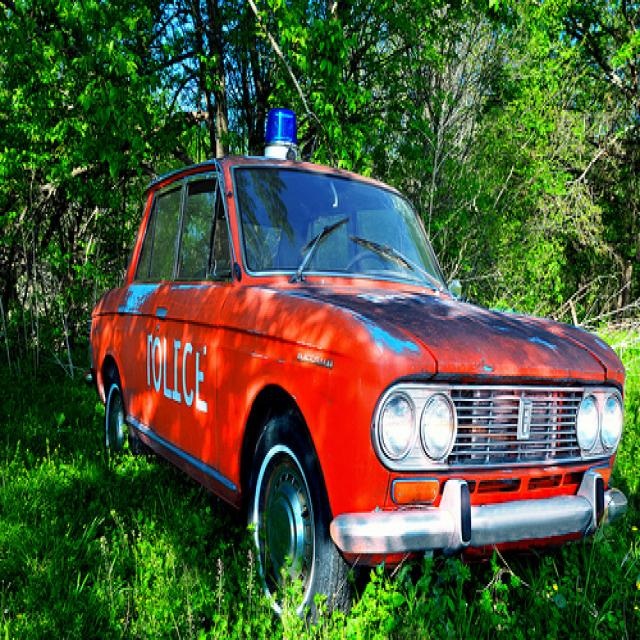Car: (83, 149, 631, 623)
